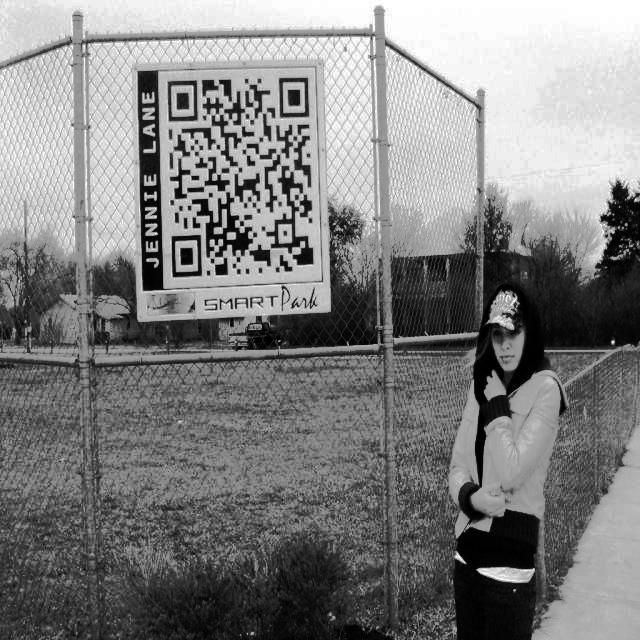qr_code: (168, 78, 313, 277)
